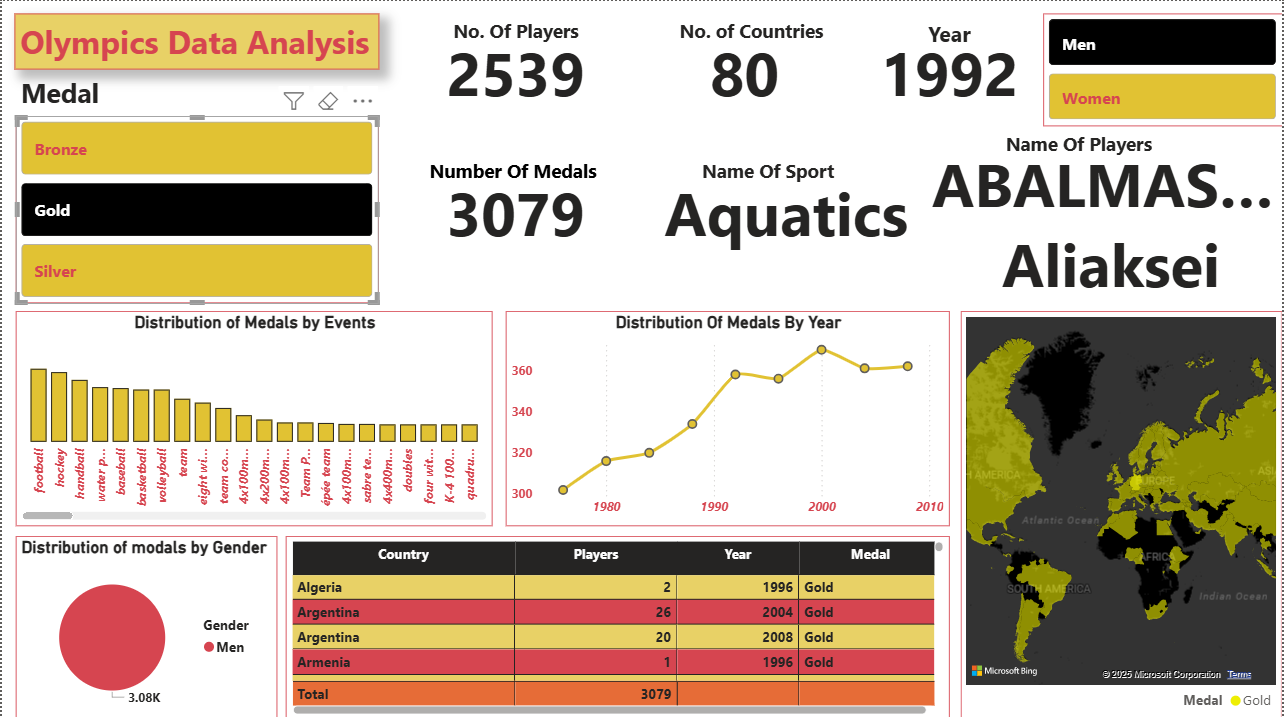

What the dashboard file says about the page in this screenshot:
{"tool":"powerbi","page":{"name":"Page 1","canvas":[1280,720],"ordinal":0},"visuals":[{"type":"textbox","box":[12.2,12.2,364.4,56.3],"z":0},{"type":"card","fields":{"Values":["cleaned_olympic_medals.Players"]},"box":[410.9,12.2,205.4,112.5],"z":1000},{"type":"textbox","box":[446.3,12.2,193.2,37.9],"z":2000},{"type":"card","fields":{"Values":["cleaned_olympic_medals.Country"]},"box":[639.5,12.2,205.4,112.5],"z":3000},{"type":"textbox","box":[672.6,12.2,157.7,39.1],"z":4000},{"type":"card","fields":{"Values":["cleaned_olympic_medals.Year"]},"box":[845,12.2,205.4,112.5],"z":5000},{"type":"textbox","box":[920.8,12.2,75.8,56.3],"z":6000},{"type":"advancedSlicerVisual","fields":{"Values":["cleaned_olympic_medals.Gender"]},"box":[1040.6,12.2,239.7,112.5],"z":7000},{"type":"advancedSlicerVisual","fields":{"Values":["cleaned_olympic_medals.Medal"]},"box":[13.5,114.9,363.2,187.1],"z":8000},{"type":"card","fields":{"Values":["cleaned_olympic_medals.Medal"]},"box":[410.9,152.9,205.4,112.5],"z":9000},{"type":"textbox","box":[421.9,152.9,194.4,46.5],"z":10000},{"type":"card","fields":{"Values":["cleaned_olympic_medals.Sport"]},"box":[649.3,152.9,271.5,112.5],"z":11000},{"type":"textbox","box":[694.6,152.9,150.4,46.5],"z":12000},{"type":"card","fields":{"Values":["cleaned_olympic_medals.Players"]},"box":[920.8,112.5,359.5,194.4],"z":13000},{"type":"textbox","box":[999.1,124.7,161.4,36.7],"z":14000},{"type":"textbox","box":[13.5,68.5,95.4,50.1],"z":15000},{"type":"columnChart","title":"Distribution of Medals by Events","fields":{"Y":["cleaned_olympic_medals.Medal"],"Series":["cleaned_olympic_medals.Medal"],"Category":["cleaned_olympic_medals.Event"]},"box":[13.5,310.6,476.9,215.2],"z":16000},{"type":"lineChart","title":"Distribution Of Medals By Year","fields":{"Category":["cleaned_olympic_medals.Year"],"Y":["cleaned_olympic_medals.Medal"],"Series":["cleaned_olympic_medals.Medal"]},"box":[503.8,310.6,443.9,215.2],"z":17000},{"type":"pieChart","title":"Distribution of modals by Gender","fields":{"Category":["cleaned_olympic_medals.Gender"],"Y":["cleaned_olympic_medals.Medal"]},"box":[13.5,535.6,261.7,184.6],"z":18000},{"type":"tableEx","fields":{"Values":["cleaned_olympic_medals.Country","cleaned_olympic_medals.Players","cleaned_olympic_medals.Year","cleaned_olympic_medals.Medal"]},"box":[283.7,535.6,664,184.6],"z":19000},{"type":"filledMap","fields":{"Category":["cleaned_olympic_medals.Country"],"Series":["cleaned_olympic_medals.Medal"]},"box":[958.7,310.6,321.6,409.6],"z":20000}]}

Visuals, with their boxes in screenshot pixels (x1, y1, x2, y2), scaled from the page's 1280x720 canvas onto the 1284x717 screenshot:
textbox: 12/12/378/68
card - cleaned_olympic_medals.Players: 412/12/618/124
textbox: 448/12/641/50
card - cleaned_olympic_medals.Country: 641/12/848/124
textbox: 675/12/833/51
card - cleaned_olympic_medals.Year: 848/12/1054/124
textbox: 924/12/1000/68
advancedSlicerVisual - cleaned_olympic_medals.Gender: 1044/12/1283/124
advancedSlicerVisual - cleaned_olympic_medals.Medal: 14/114/378/301
card - cleaned_olympic_medals.Medal: 412/152/618/264
textbox: 423/152/618/199
card - cleaned_olympic_medals.Sport: 651/152/924/264
textbox: 697/152/848/199
card - cleaned_olympic_medals.Players: 924/112/1283/306
textbox: 1002/124/1164/161
textbox: 14/68/109/118
"Distribution of Medals by Events" columnChart: 14/309/492/524
"Distribution Of Medals By Year" lineChart: 505/309/951/524
"Distribution of modals by Gender" pieChart: 14/533/276/716
tableEx - cleaned_olympic_medals.Country x cleaned_olympic_medals.Players: 285/533/951/716
filledMap - cleaned_olympic_medals.Country x cleaned_olympic_medals.Medal: 962/309/1283/716
